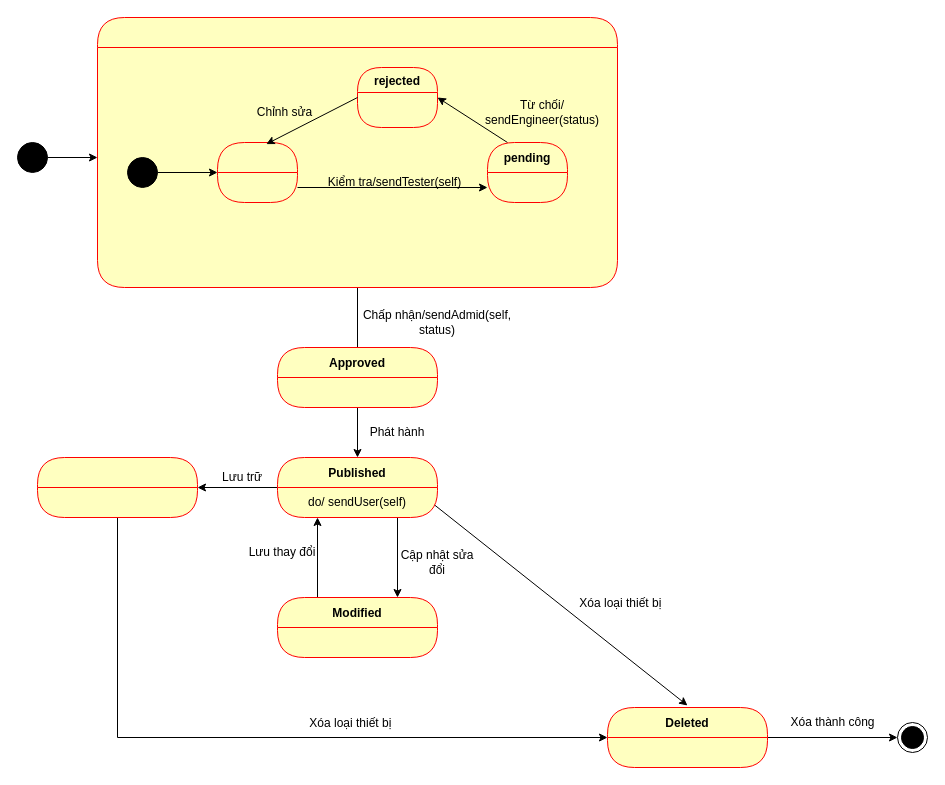
Some shapes in this 945 by 785 pixel diagram are drawn without their labels. The shapes that lost their labels are listed below. From the top down, each one's box as (x1, y1, x2, y2) in pixels, then its label:
(216, 142, 298, 202): draft
(96, 16, 618, 288): InProgress
(36, 456, 198, 518): Stored
